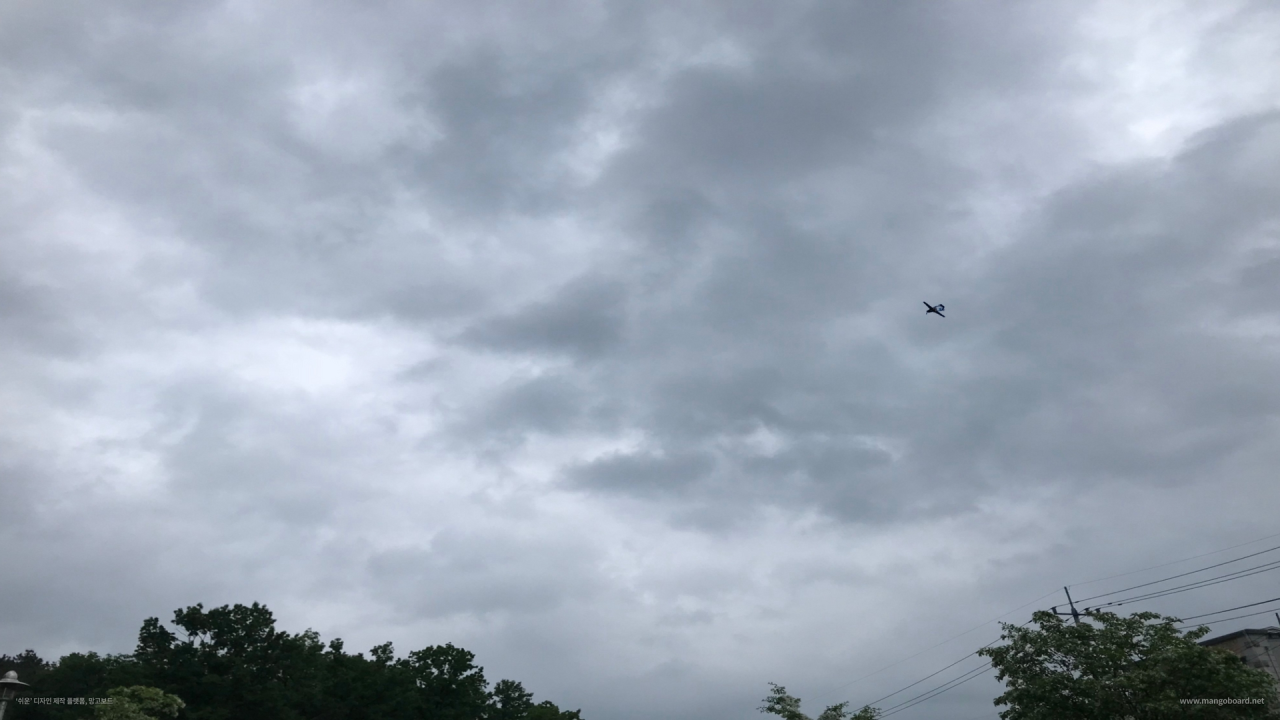military drone: (922, 301, 945, 317)
